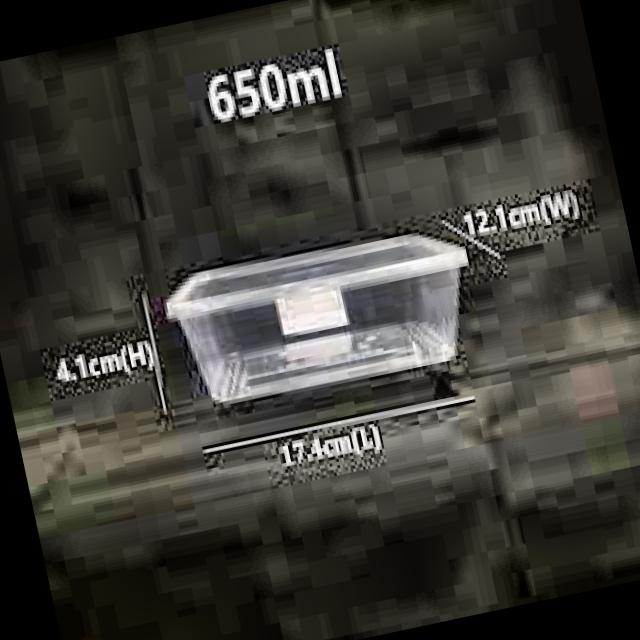plastic container: (166, 233, 468, 403)
